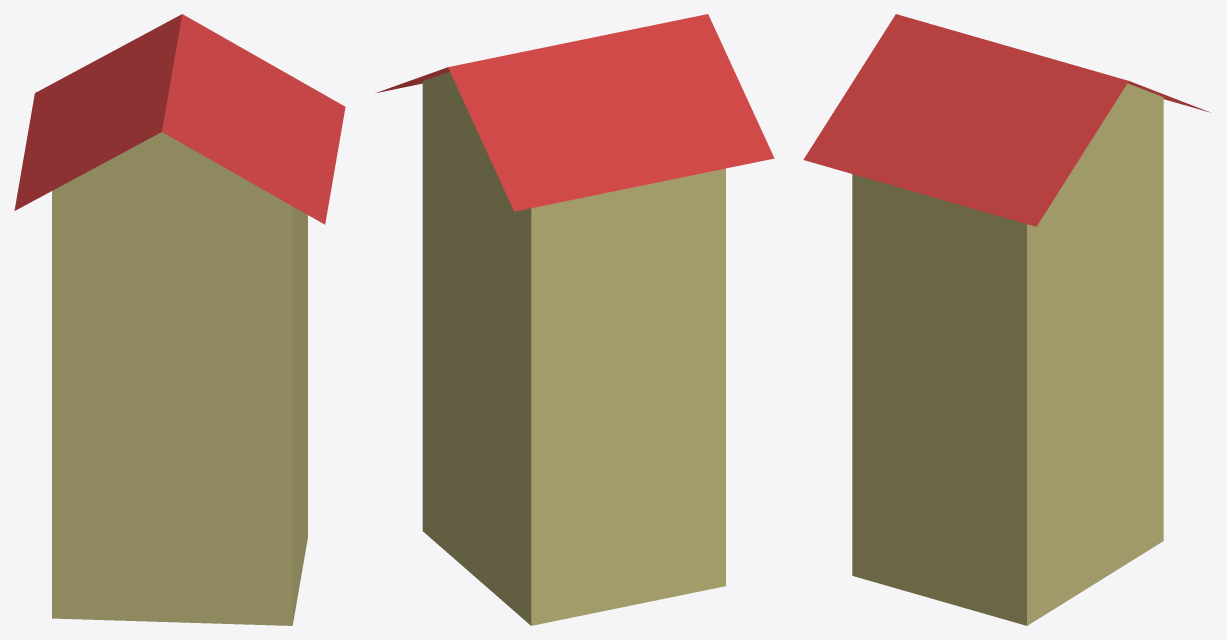
3 renders of one model, left to right at view 1: azimuth 30°, elevation 25°; view 2: azimuth 150°, elevation 25°; view 3: azimuth 270°, elevation 25°, orthographic. The views are drawn at different scales.
Size of the model in its own units: 5.91 by 5.79 by 7.93.
